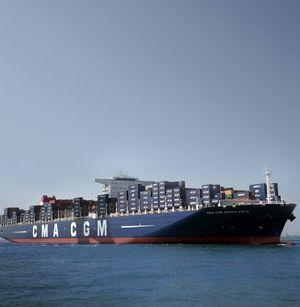Cargoship: (6, 158, 295, 249)
